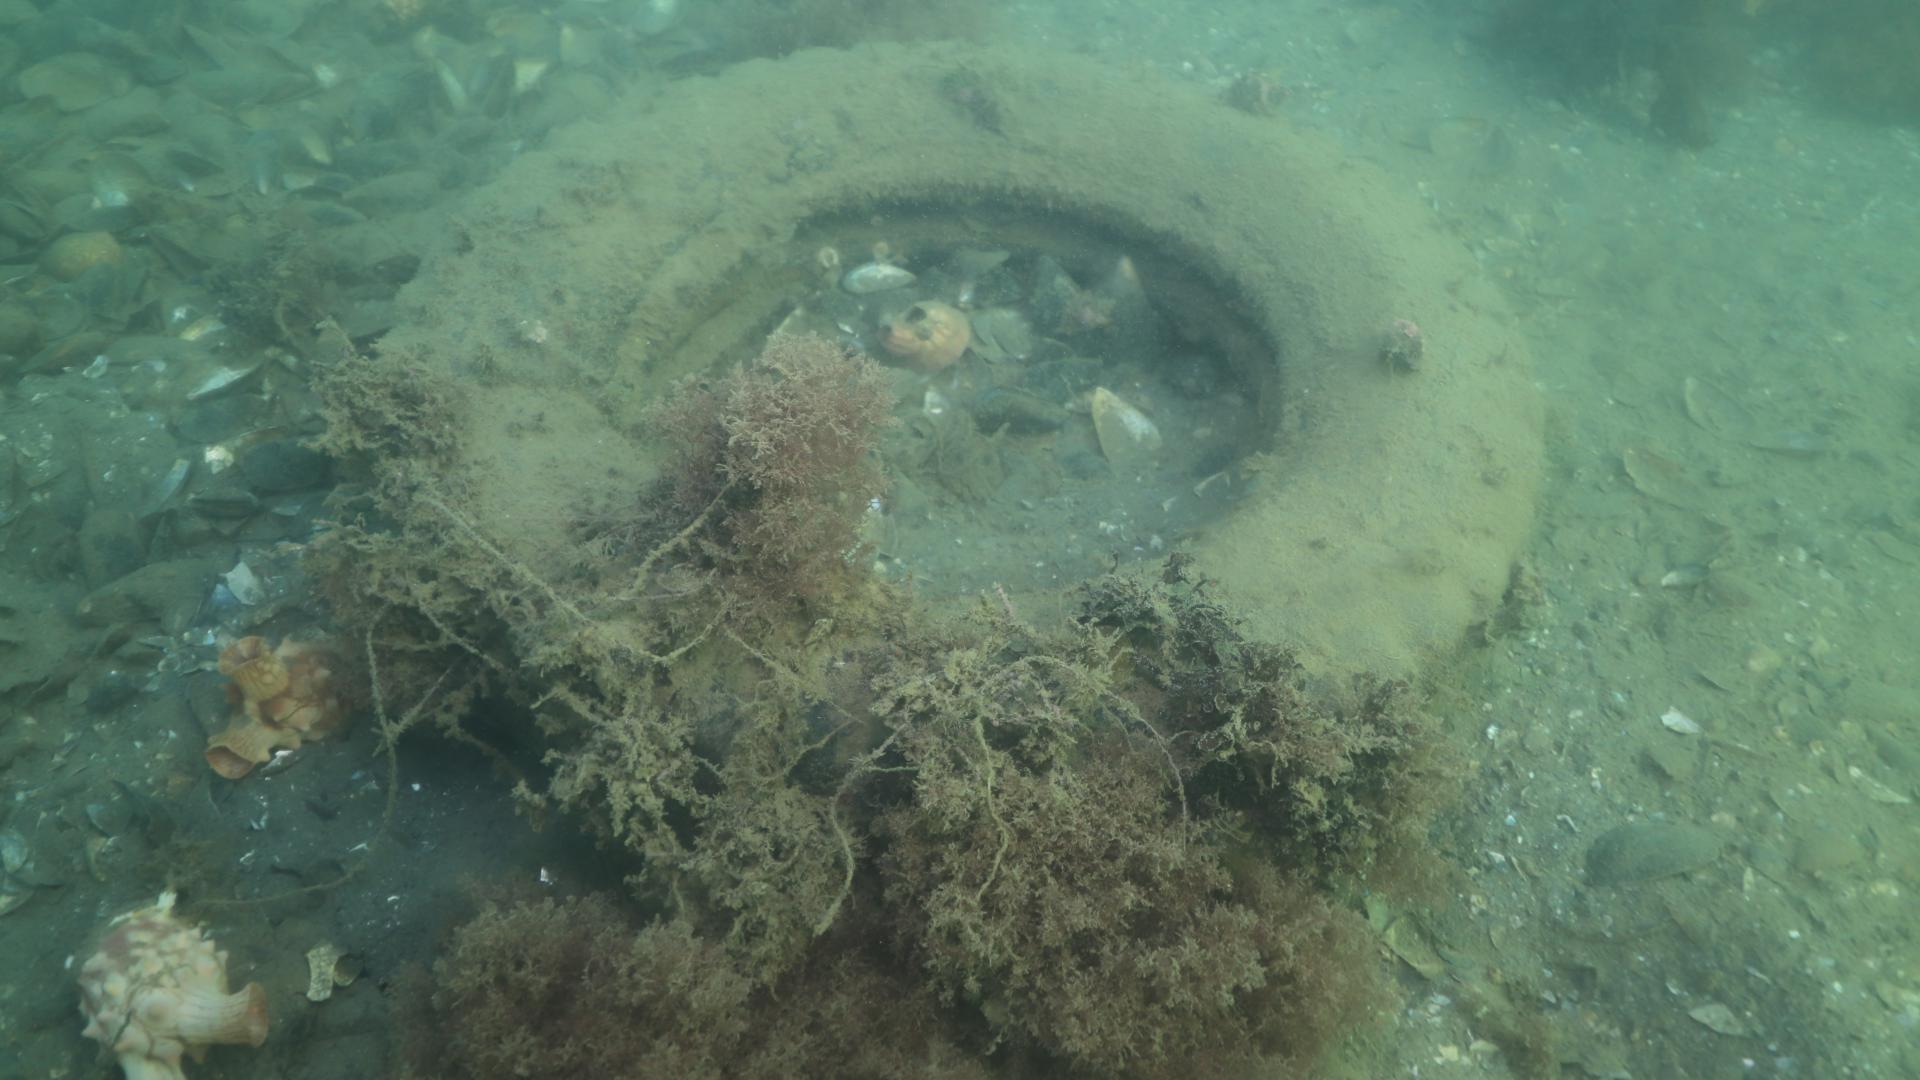tire: (372, 37, 1551, 717)
